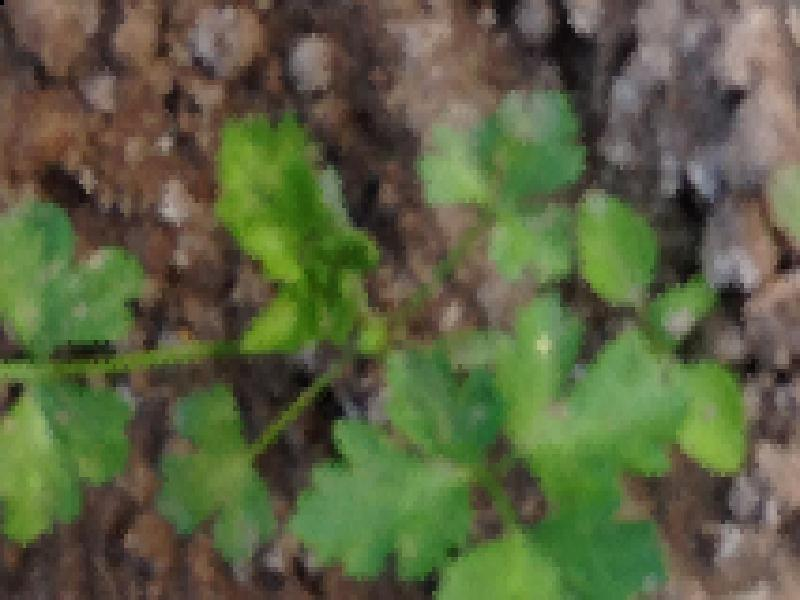radish: (169, 9, 644, 599)
